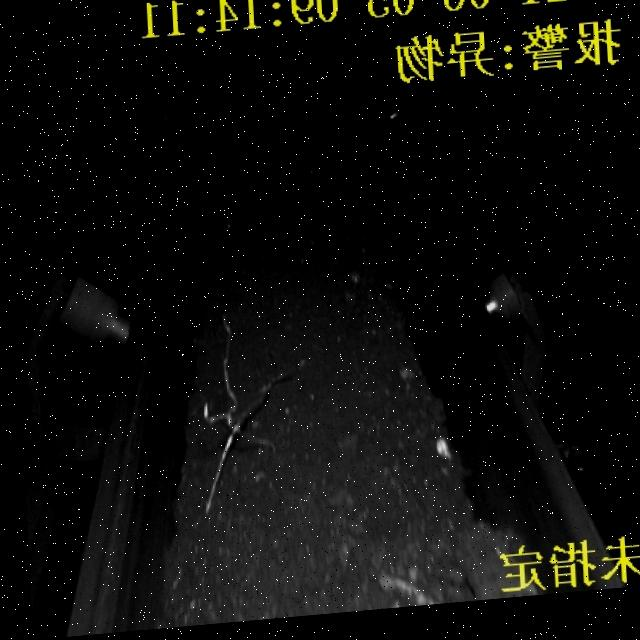bolt: (186, 306, 312, 522)
large_sized_coal: (371, 574, 431, 616)
